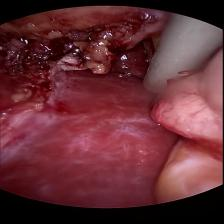Irrigator: (136, 30, 222, 94)
